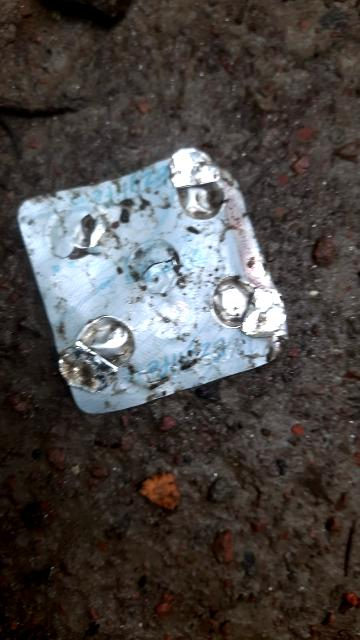medicine: (18, 141, 295, 419)
